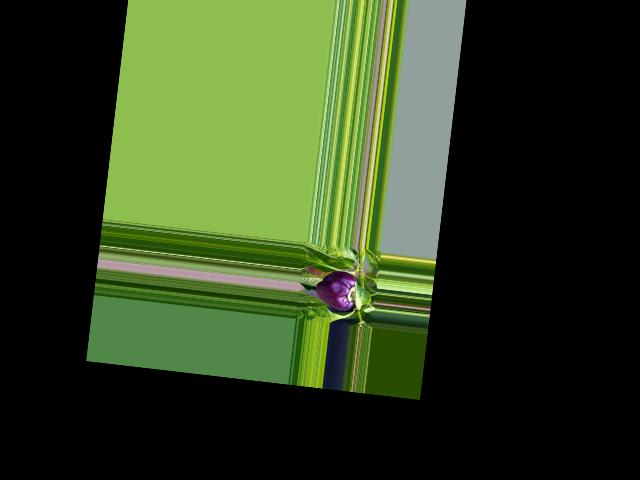bell_pepper: (312, 267, 362, 312)
